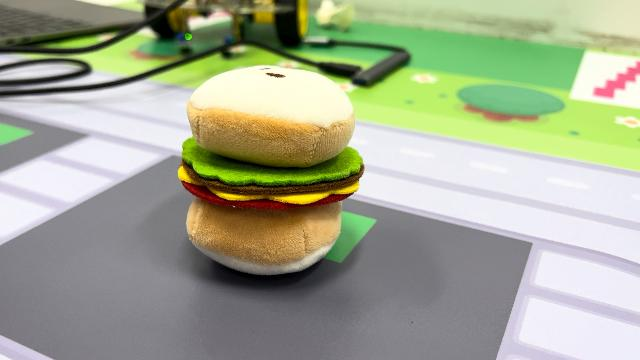sandwich: (176, 62, 366, 276)
